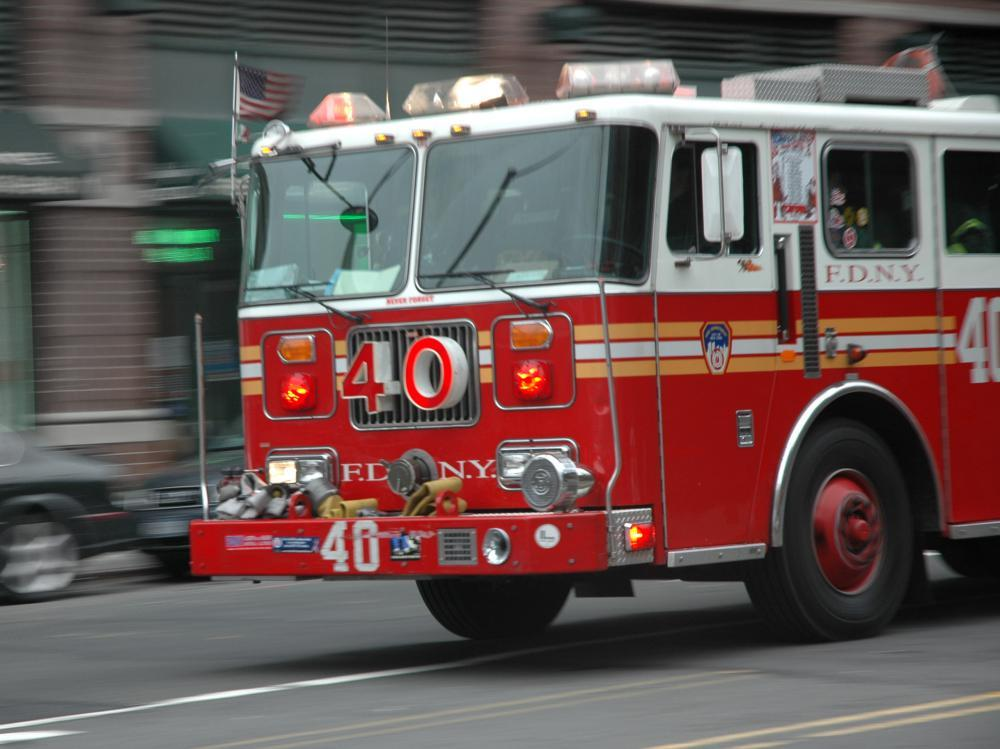Fire-engine: (186, 50, 998, 644)
